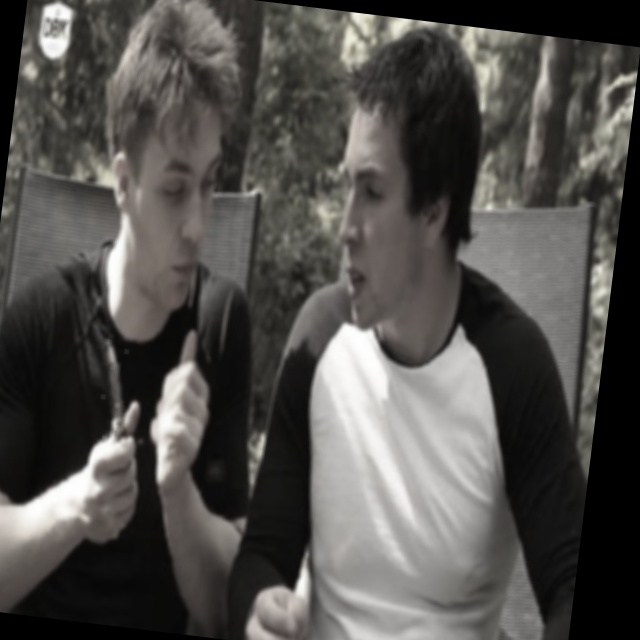Sharp-Object: (96, 337, 136, 445)
